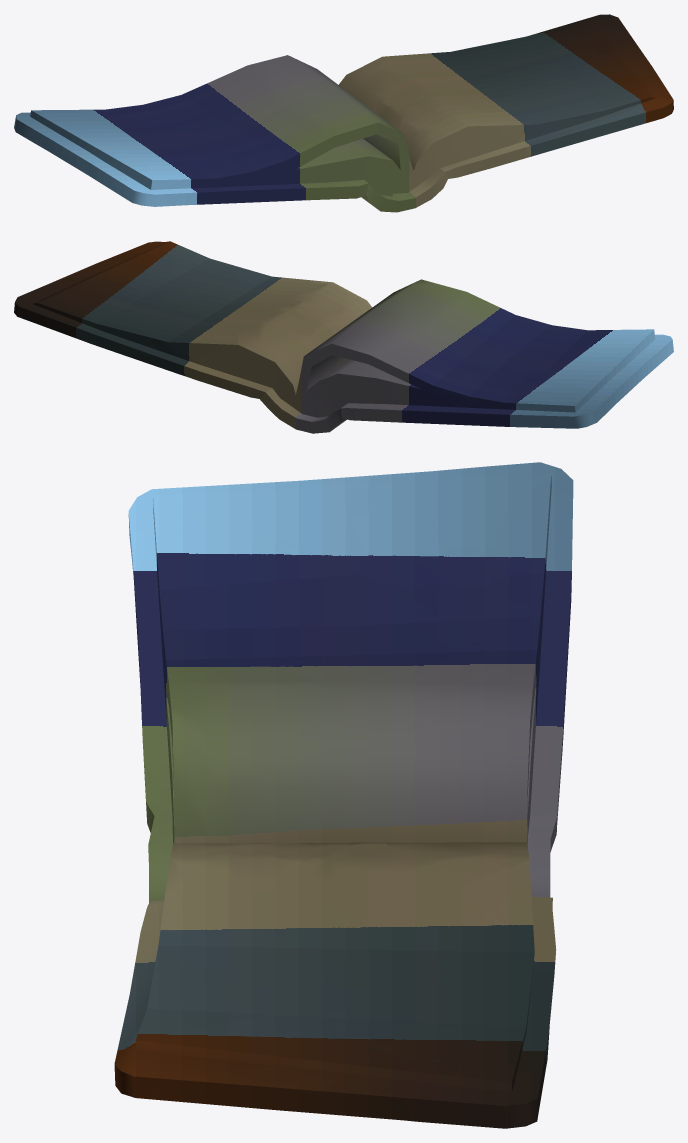
File: Prop_SkyArtBook02_Open.glb
3 views of the same model, one above another, from view 1: azimuth 30°, elevation 25°; view 2: azimuth 150°, elevation 25°; view 3: azimuth 270°, elevation 25° (orthographic). The views are drawn at different scales.
Parts seen in each view (by area): view 1: Prop_SkyArtBook02_Open; view 2: Prop_SkyArtBook02_Open; view 3: Prop_SkyArtBook02_Open.
Part boxes in pixels (x1=…): Prop_SkyArtBook02_Open: x1=14, y1=14, x2=673, y2=212; Prop_SkyArtBook02_Open: x1=14, y1=241, x2=673, y2=433; Prop_SkyArtBook02_Open: x1=114, y1=462, x2=573, y2=1128.
Bounding box in the file's own units: 8.63 × 1.3 × 2.91.
1 material, 1 textured.
